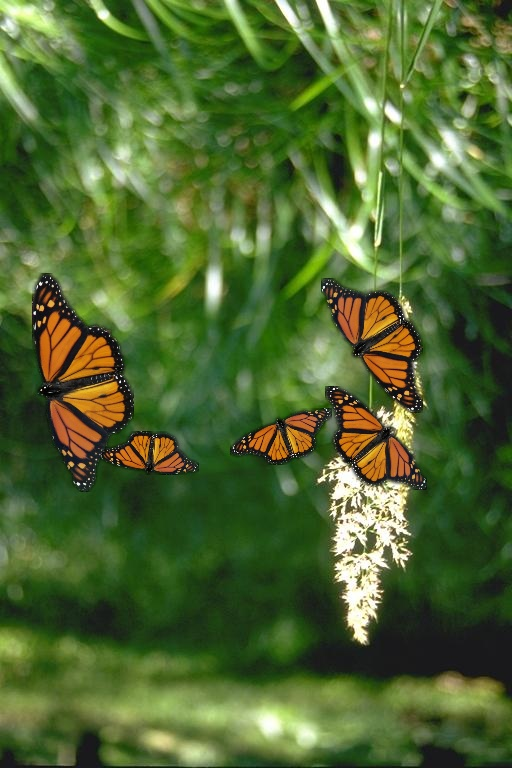danaus_plexippus: (32, 273, 134, 492), (321, 278, 423, 413), (325, 386, 427, 490), (230, 408, 332, 465), (97, 431, 199, 475)
